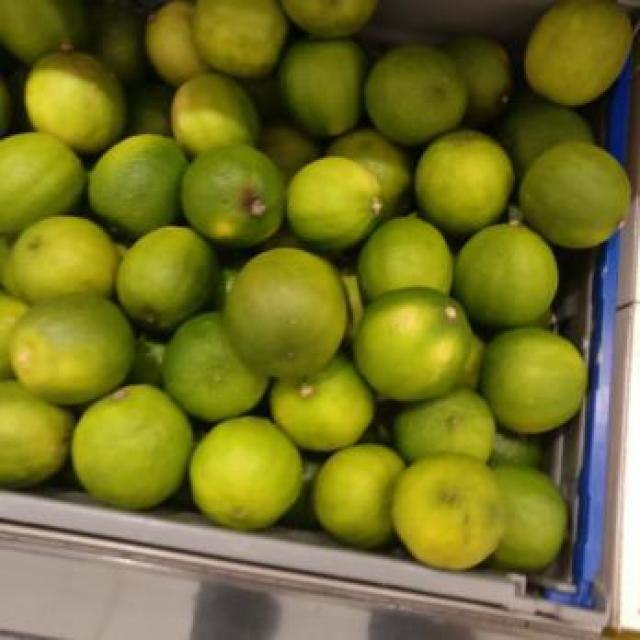-: (9, 298, 142, 408), (522, 138, 638, 256), (182, 425, 313, 526), (355, 289, 473, 395), (402, 466, 508, 580), (484, 323, 588, 438), (7, 208, 125, 298), (285, 140, 384, 241)
